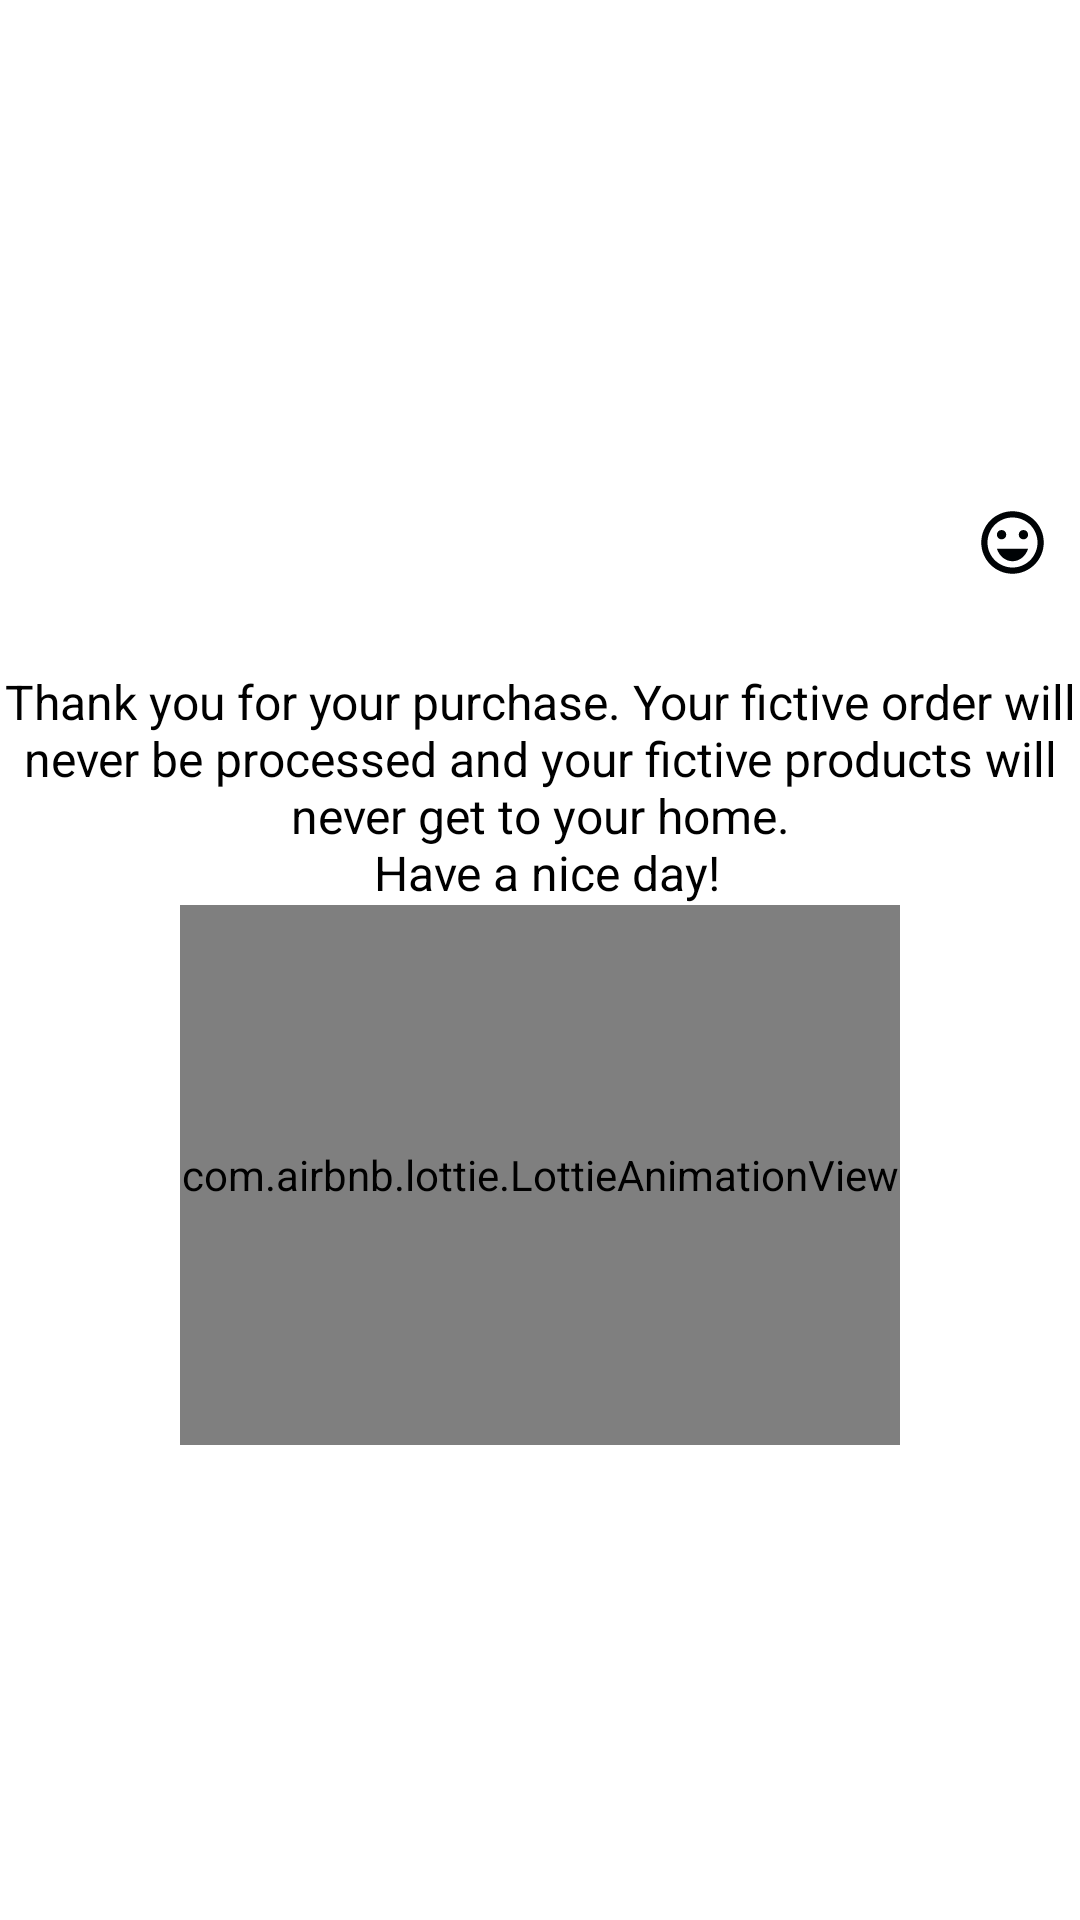

Where to tap for icons on this 1080w x 1920h app screen, as point (x, y):
Dialog icon: point (1012, 542)
